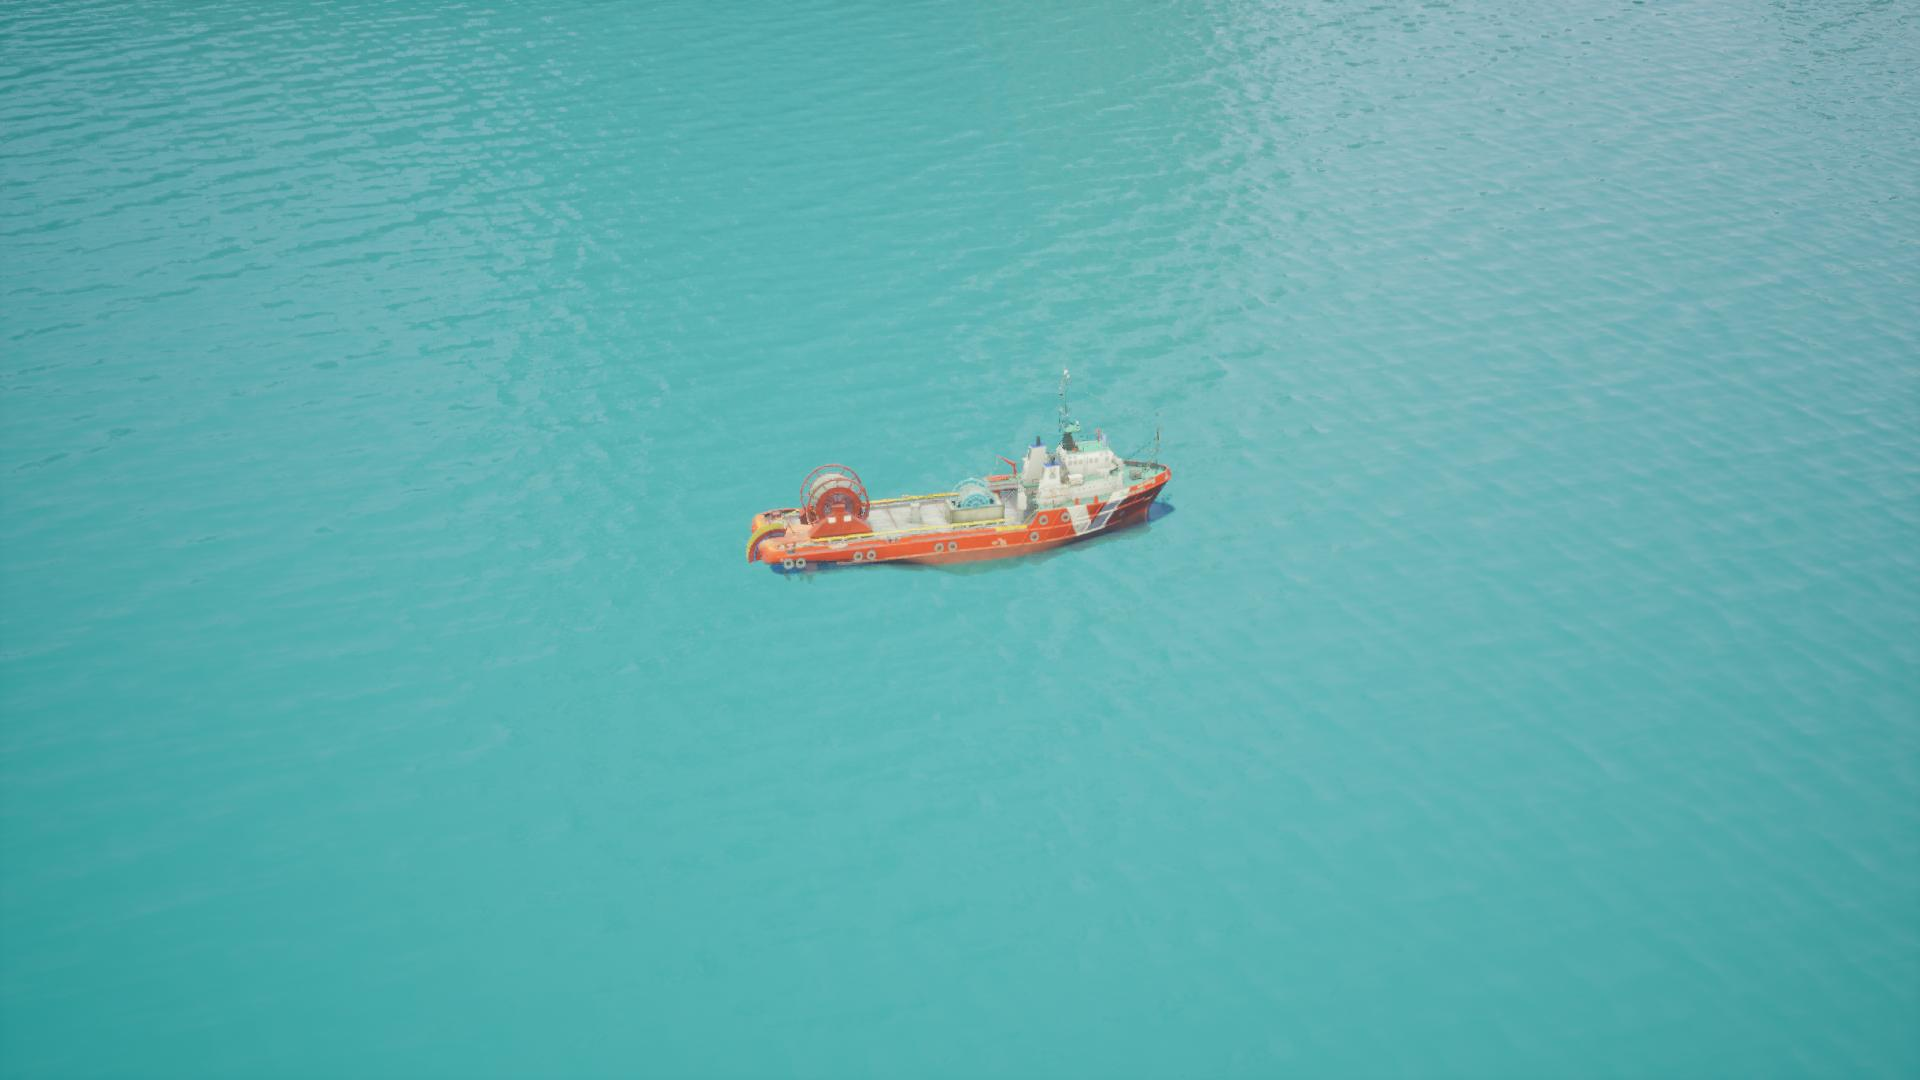Tug Boat: (716, 356, 1246, 638)
